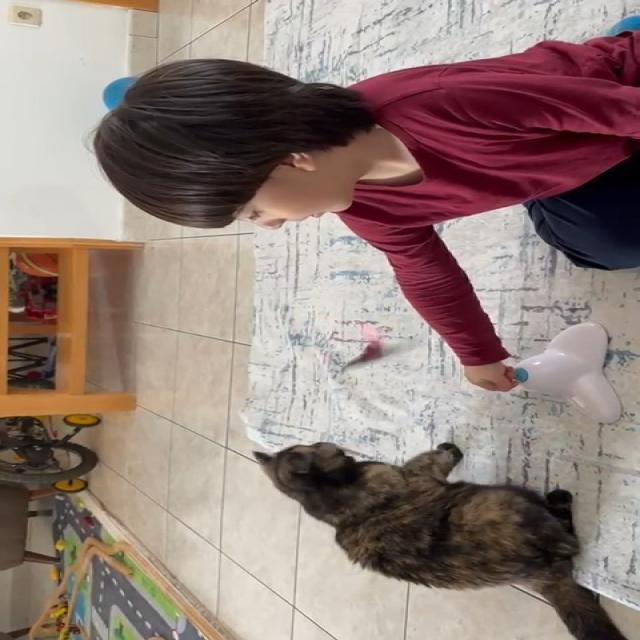authorized: (251, 440, 629, 639)
